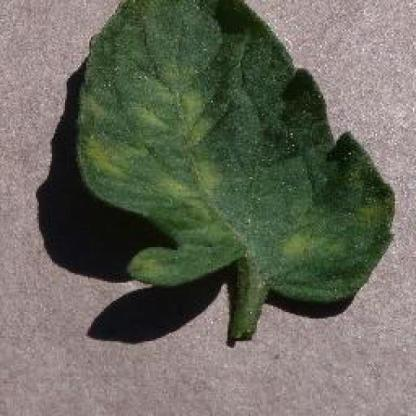Tomato_Leaf_Mold: (78, 0, 394, 303)
